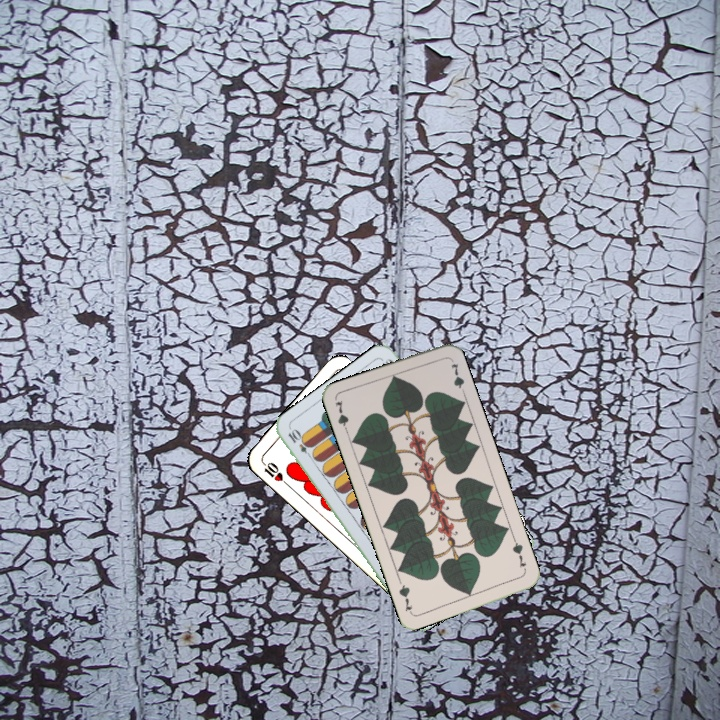E10: (284, 425, 316, 461)
G7: (331, 396, 351, 437), (508, 535, 529, 574)
H10: (258, 457, 291, 489)
